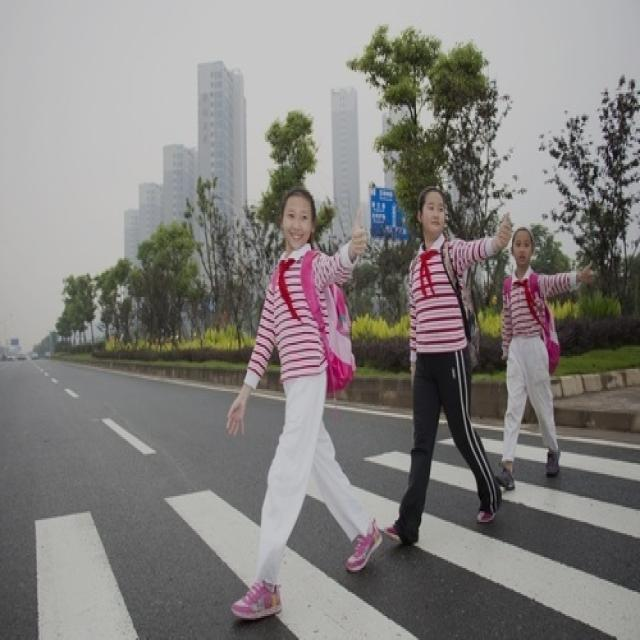non-fight: (220, 184, 379, 636), (393, 184, 497, 552), (488, 222, 568, 492)
